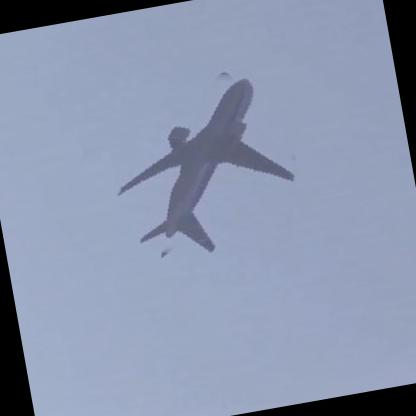plane: (92, 49, 322, 281)
